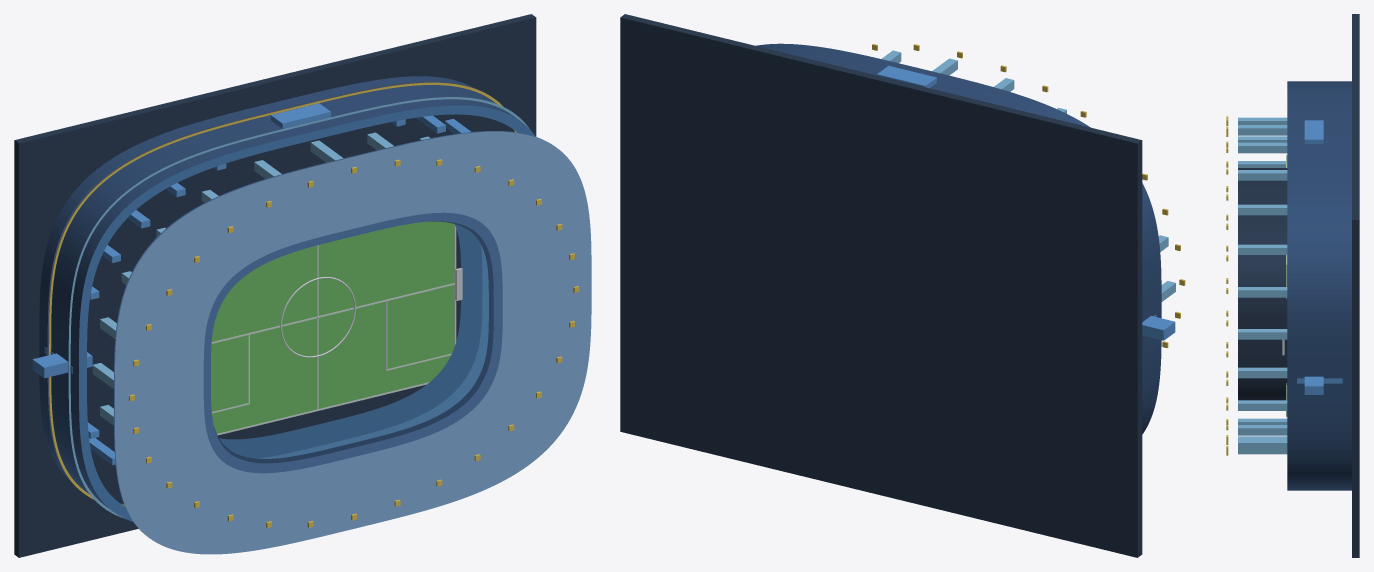
Rendered from zamin_fk_stadium.glb.
The picture shows the model from 3 angles, left to right: view 1: azimuth 30°, elevation 25°; view 2: azimuth 150°, elevation 25°; view 3: azimuth 270°, elevation 25°; orthographic projection. The views are drawn at different scales.
Visible parts, largest first — view 1: roof_edge_glow, foundation, football_pitch, main_facade, roof_canopy, seating_tier_1, facade_crown, seating_tier_2, roof_inner_lip, upper_light_band, warm_light_band, lower_band (+2 smaller); view 2: foundation, main_facade, club_sign_panel_1; view 3: main_facade, inner_bowl_wall, foundation, roof_support_0, roof_support_4, roof_support_6, roof_support_21, roof_support_1, roof_support_2, roof_support_5, roof_support_7, roof_support_22 (+10 smaller).
Boxes of the visible parts, left/top/right/bottom form: roof_edge_glow: left=115, top=131, right=591, bottom=554; foundation: left=14, top=14, right=536, bottom=557; football_pitch: left=211, top=221, right=454, bottom=433; main_facade: left=39, top=76, right=516, bottom=508; roof_canopy: left=114, top=131, right=542, bottom=532; seating_tier_1: left=219, top=224, right=482, bottom=458; facade_crown: left=79, top=105, right=535, bottom=521; seating_tier_2: left=259, top=245, right=488, bottom=458; roof_inner_lip: left=214, top=221, right=493, bottom=463; upper_light_band: left=68, top=97, right=529, bottom=518; warm_light_band: left=49, top=82, right=516, bottom=506; lower_band: left=47, top=81, right=514, bottom=504; foundation: left=620, top=14, right=1142, bottom=557; main_facade: left=756, top=43, right=1161, bottom=434; club_sign_panel_1: left=877, top=65, right=936, bottom=88; main_facade: left=1287, top=81, right=1351, bottom=490; inner_bowl_wall: left=1238, top=168, right=1287, bottom=400; foundation: left=1352, top=14, right=1359, bottom=557; roof_support_0: left=1238, top=367, right=1287, bottom=378; roof_support_4: left=1238, top=204, right=1287, bottom=215; roof_support_6: left=1238, top=142, right=1287, bottom=153; roof_support_21: left=1238, top=439, right=1287, bottom=450; roof_support_1: left=1238, top=329, right=1287, bottom=339; roof_support_2: left=1238, top=287, right=1287, bottom=297; roof_support_5: left=1238, top=170, right=1287, bottom=180; roof_support_7: left=1238, top=125, right=1287, bottom=135; roof_support_22: left=1238, top=425, right=1287, bottom=435.
Bounding box in the file's own units: 130 × 98 × 35.05.
